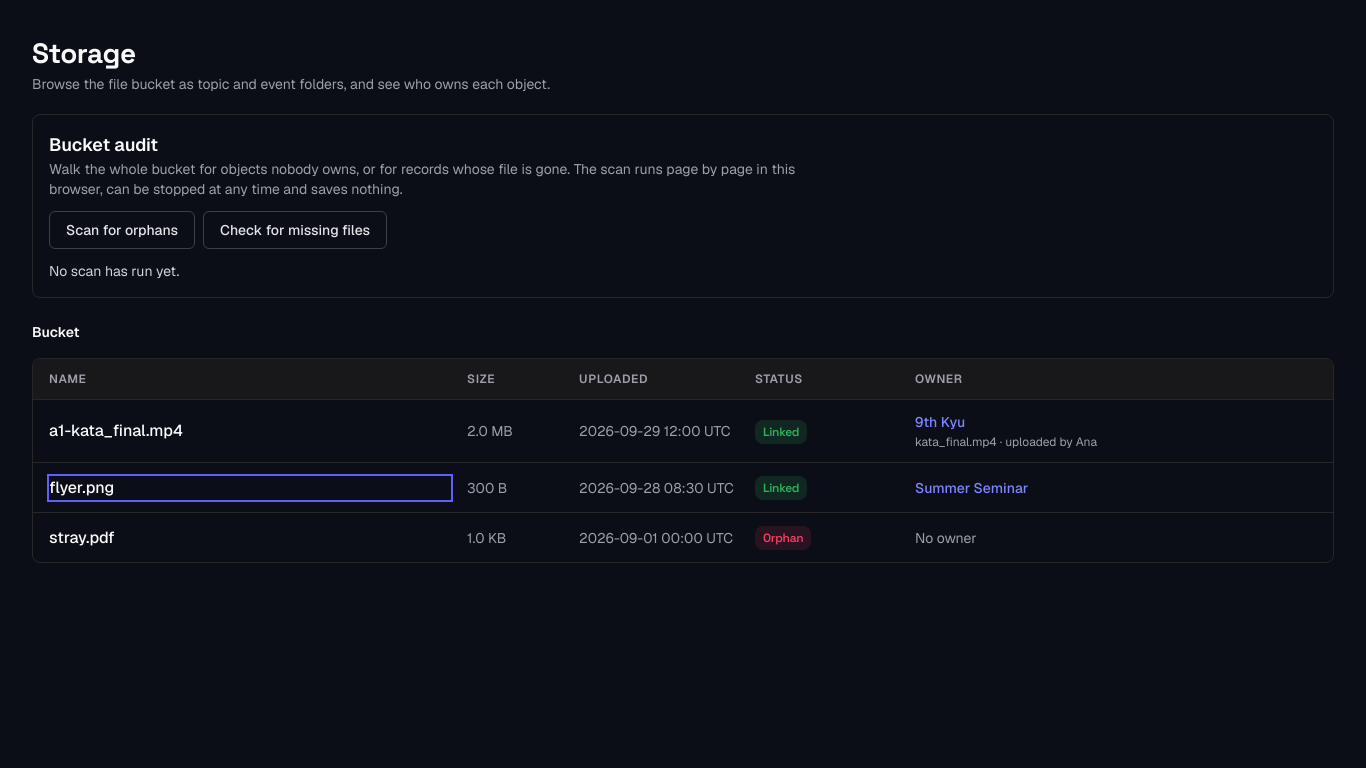
Test case: AdminStoragePage › object drawer › previews an image from the presigned URL
The image size is (1366, 768).
Click the button "flyer.png". click: (82, 487)
box: [49,476,451,500]
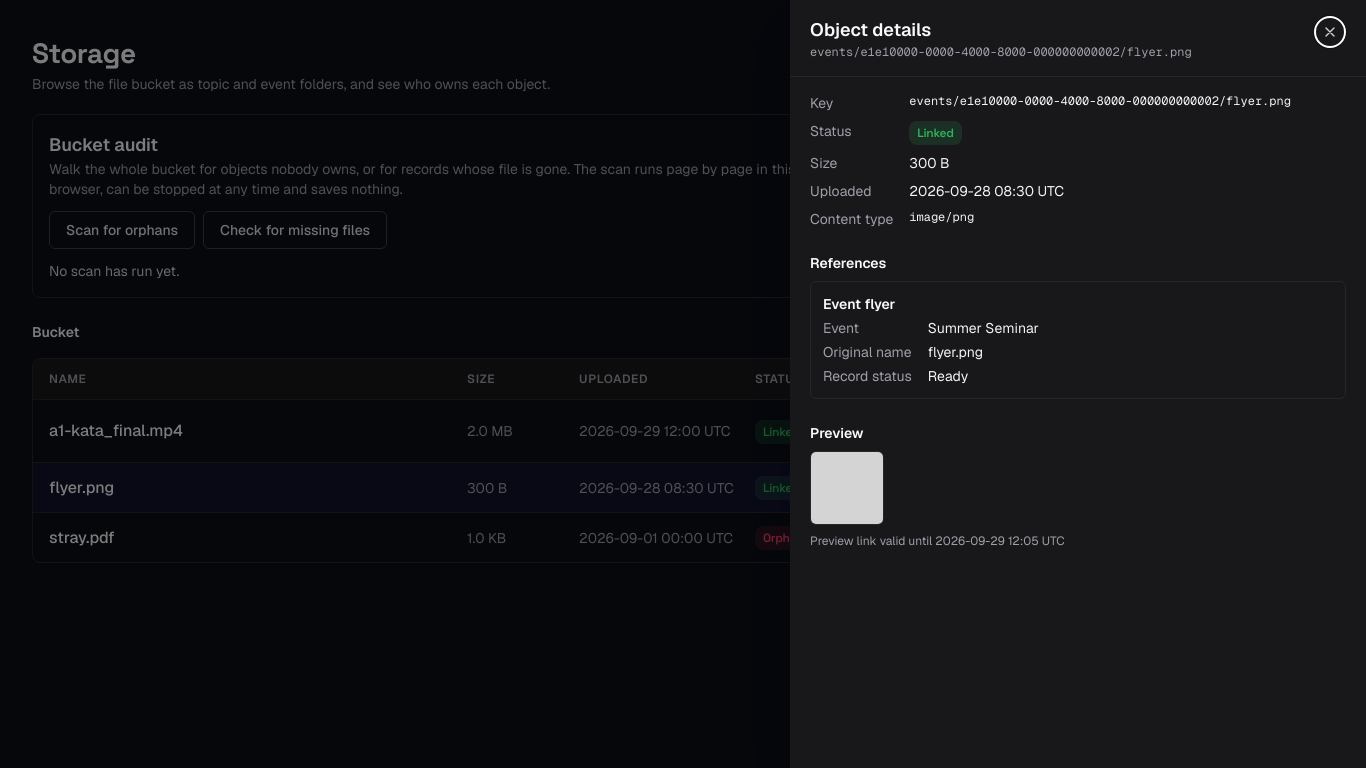
Expected: the text "Summer Seminar" is shown, [928,319,1039,337]
